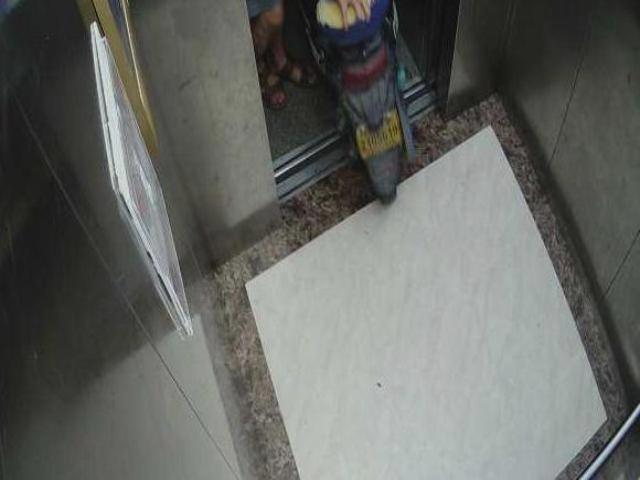emotor: (280, 16, 452, 225)
